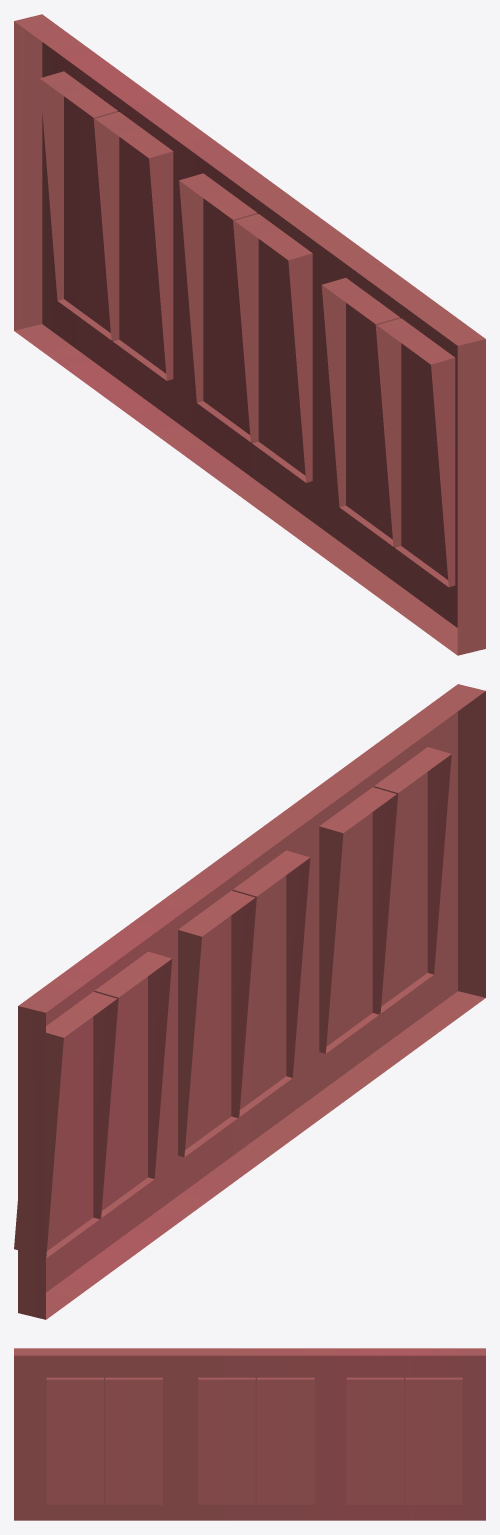
File: Office_Switch.fbx
The picture shows the model from 3 angles, top to bottom: view 1: azimuth 30°, elevation 25°; view 2: azimuth 150°, elevation 25°; view 3: azimuth 270°, elevation 25°; orthographic projection. The views are drawn at different scales.
Parts seen in each view (by area): view 1: Office_Switch; view 2: Office_Switch; view 3: Office_Switch.
Part boxes in pixels (bbox=[...]): Office_Switch: bbox=[14, 14, 485, 655]; Office_Switch: bbox=[14, 684, 485, 1319]; Office_Switch: bbox=[14, 1348, 485, 1520].
Size of the model in its own units: 3.34 by 18.23 by 47.34.
